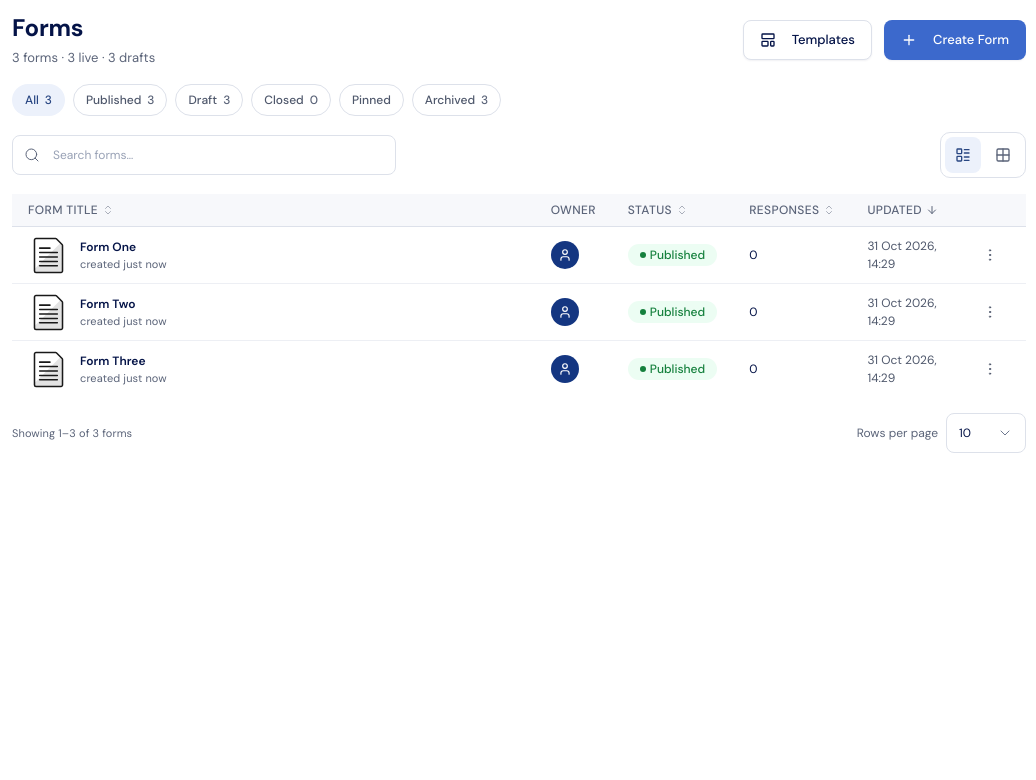
Test: WorkspaceFormsPage — FormsPage rendered with workspace context › switching to the Draft tab filters by status and resets the page
The width and height of the screenshot is (1036, 780).
Expected: the link "Form One" is shown, left=80, top=238, right=136, bottom=256
What coordinates should you click on to do the following:
click the button "Draft 3"
I would click on:
 (209, 100)
Its box is left=176, top=84, right=243, bottom=116.
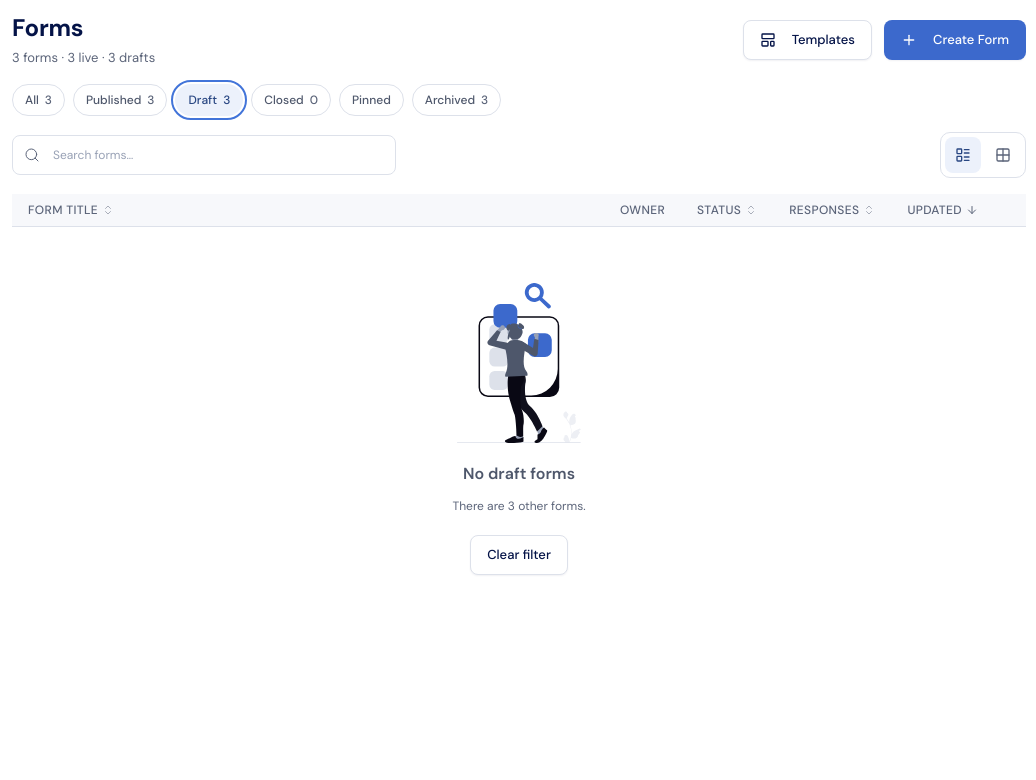
Expected: the heading "No draft forms" is shown, left=463, top=463, right=575, bottom=485
